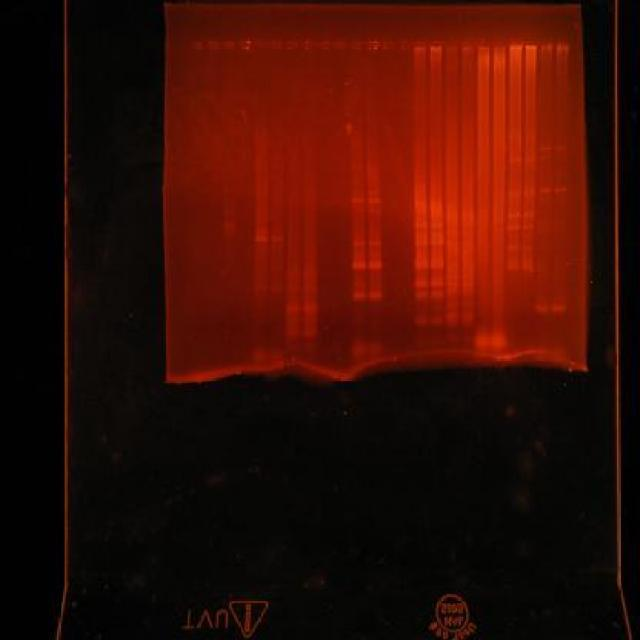B: (348, 342, 367, 360), (490, 336, 510, 353), (473, 334, 490, 352), (368, 340, 383, 358), (351, 290, 367, 302), (350, 260, 367, 271), (550, 304, 568, 314), (284, 329, 300, 340), (412, 316, 428, 327), (367, 260, 382, 271), (302, 304, 318, 314), (534, 304, 550, 314), (430, 316, 444, 327), (302, 330, 318, 339), (286, 267, 302, 276), (269, 284, 283, 294), (446, 312, 460, 322), (414, 280, 429, 289), (285, 306, 301, 314), (302, 284, 318, 292), (460, 288, 476, 296), (536, 186, 552, 194), (552, 219, 568, 227), (302, 276, 318, 284), (303, 267, 319, 275), (286, 276, 302, 284), (368, 291, 382, 300), (414, 291, 428, 300), (430, 291, 444, 300), (460, 312, 474, 321), (460, 300, 474, 309), (367, 207, 381, 216), (414, 222, 429, 230), (414, 239, 429, 247), (521, 263, 534, 272), (521, 231, 534, 240), (352, 240, 366, 248), (368, 239, 382, 247), (286, 284, 300, 292), (430, 280, 444, 288), (430, 239, 444, 247), (460, 280, 474, 288), (446, 288, 460, 296), (446, 302, 460, 310), (506, 264, 520, 272), (506, 224, 520, 232), (506, 212, 520, 220), (537, 227, 551, 235), (536, 219, 550, 227), (554, 185, 568, 193), (538, 144, 552, 152), (350, 164, 364, 172), (366, 165, 380, 173), (414, 200, 428, 208), (414, 207, 428, 215), (428, 208, 444, 215), (506, 232, 520, 240), (352, 197, 365, 205), (521, 244, 534, 252), (254, 235, 268, 242), (446, 322, 460, 329), (460, 321, 474, 328), (506, 245, 520, 252), (252, 286, 268, 292), (430, 258, 446, 264), (430, 264, 446, 270), (552, 226, 568, 232), (412, 183, 428, 189), (413, 194, 429, 200), (414, 264, 429, 270), (414, 258, 429, 264), (461, 274, 476, 280), (270, 236, 284, 242), (430, 223, 444, 229), (446, 281, 460, 287), (554, 144, 568, 150), (538, 154, 552, 160), (508, 156, 522, 162), (508, 134, 522, 140), (508, 144, 522, 150), (522, 187, 536, 193), (507, 188, 521, 194), (507, 194, 521, 200), (413, 188, 427, 194), (366, 172, 380, 178), (429, 201, 443, 207), (429, 194, 443, 200), (413, 146, 427, 152), (222, 224, 235, 230), (521, 257, 534, 263), (522, 224, 535, 230), (522, 212, 535, 218), (368, 198, 380, 204), (508, 258, 520, 264), (524, 156, 536, 162), (430, 188, 442, 194), (254, 230, 268, 235), (522, 193, 536, 198), (429, 183, 443, 188), (222, 212, 235, 217), (366, 192, 379, 196), (222, 232, 235, 236)
L: (185, 34, 573, 56)
Pc: (554, 38, 570, 54), (538, 38, 554, 52), (444, 36, 458, 52), (411, 38, 427, 52), (428, 38, 443, 52), (236, 39, 252, 52), (460, 38, 476, 51), (348, 38, 363, 51), (507, 39, 524, 50), (190, 39, 204, 52), (206, 39, 220, 52), (268, 39, 284, 50), (252, 39, 268, 50), (284, 39, 300, 50), (300, 39, 316, 50), (491, 39, 507, 50), (476, 39, 492, 50), (396, 39, 412, 50), (380, 39, 396, 50), (316, 40, 332, 51), (221, 39, 236, 50), (364, 39, 379, 50), (524, 39, 538, 50), (332, 39, 346, 50)
